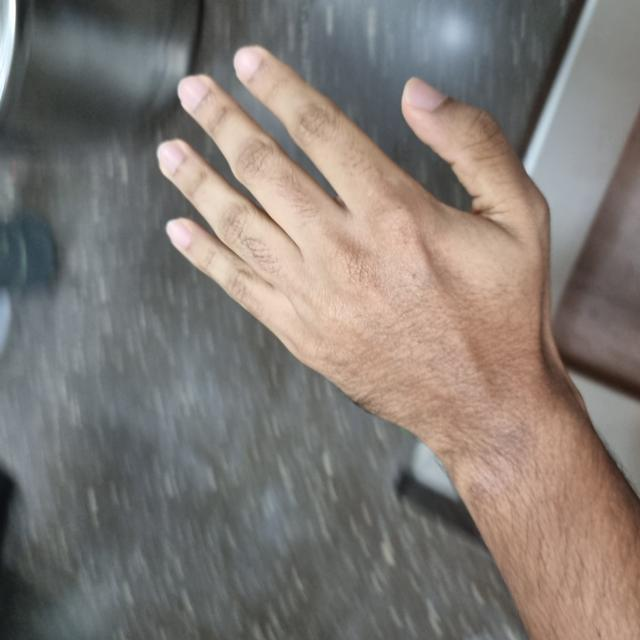Paper: (194, 159, 591, 553)
